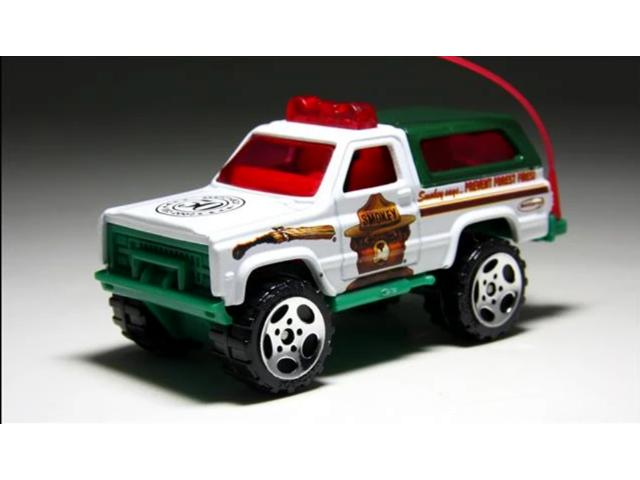toy-car: (94, 95, 569, 400)
